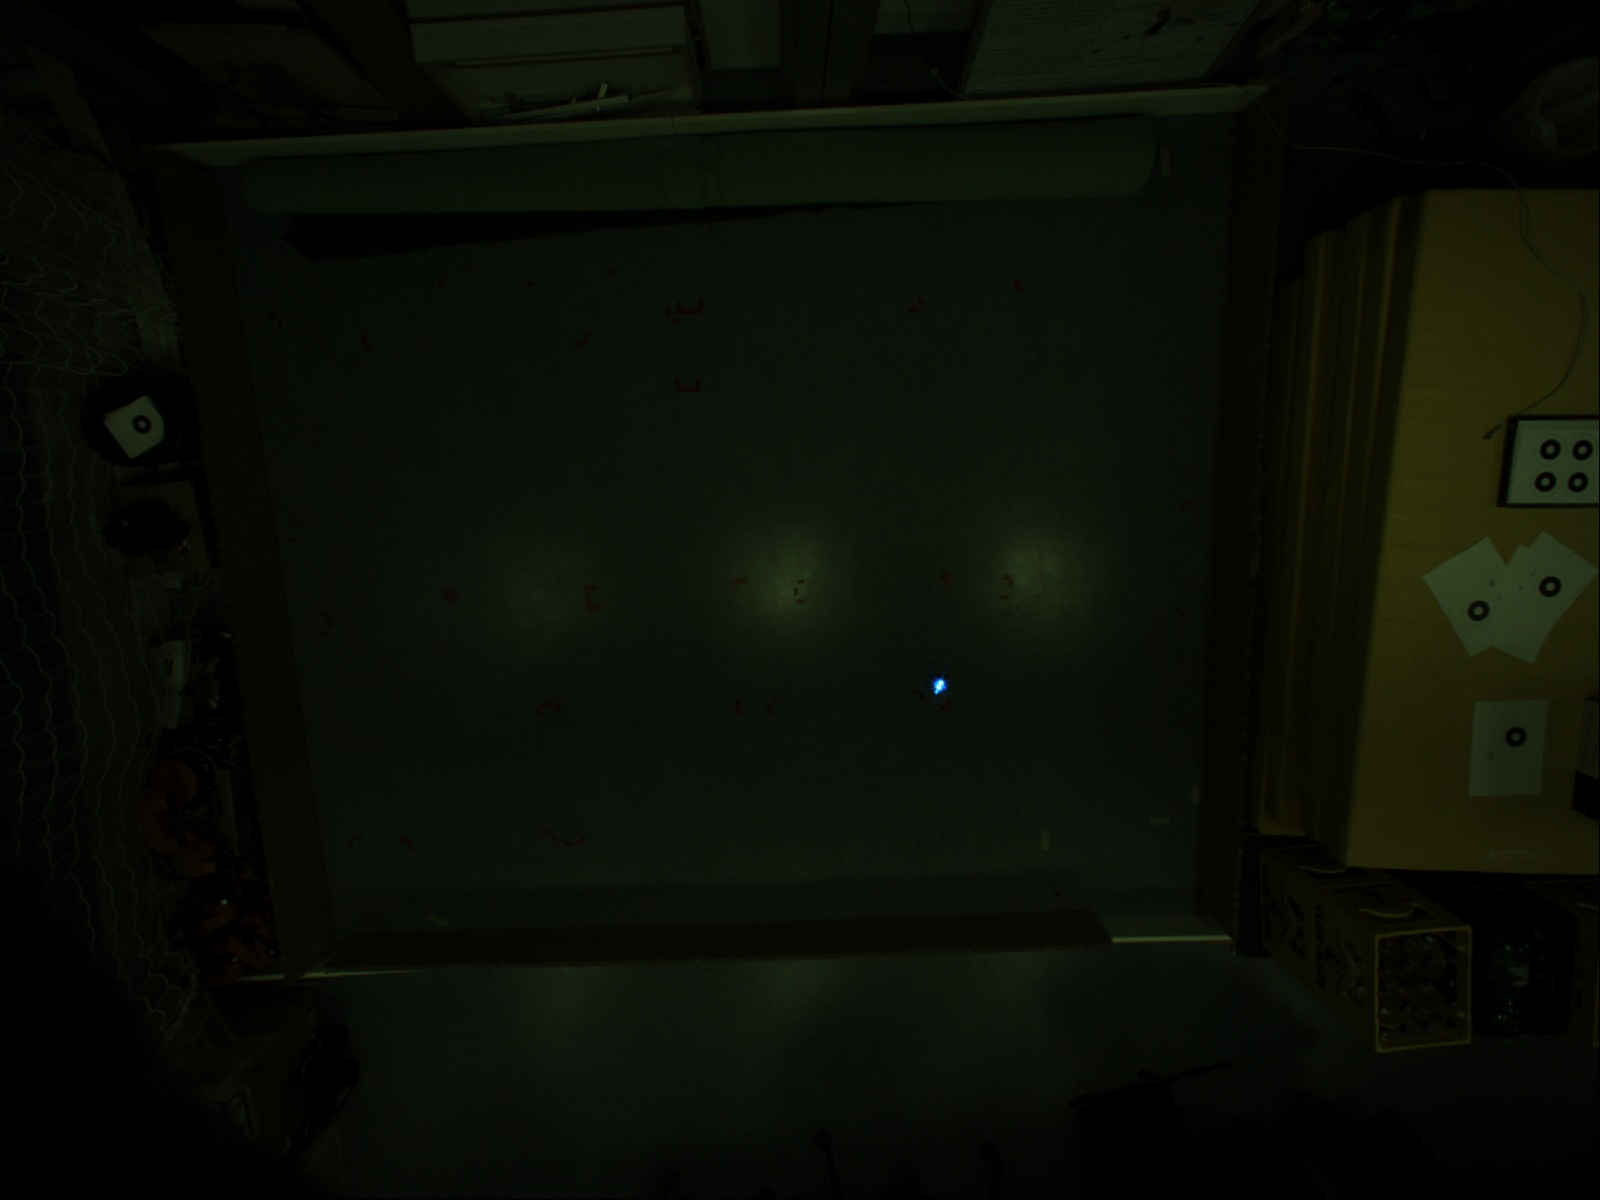sphero: (923, 669, 954, 701)
